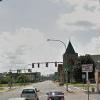Car: (17, 85, 68, 99)
